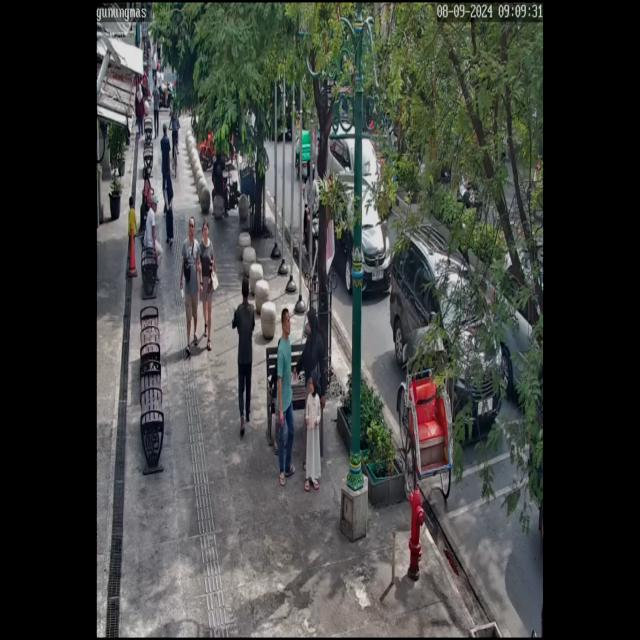Car: (388, 215, 503, 460), (476, 226, 554, 430), (326, 184, 391, 306), (320, 119, 382, 202)
